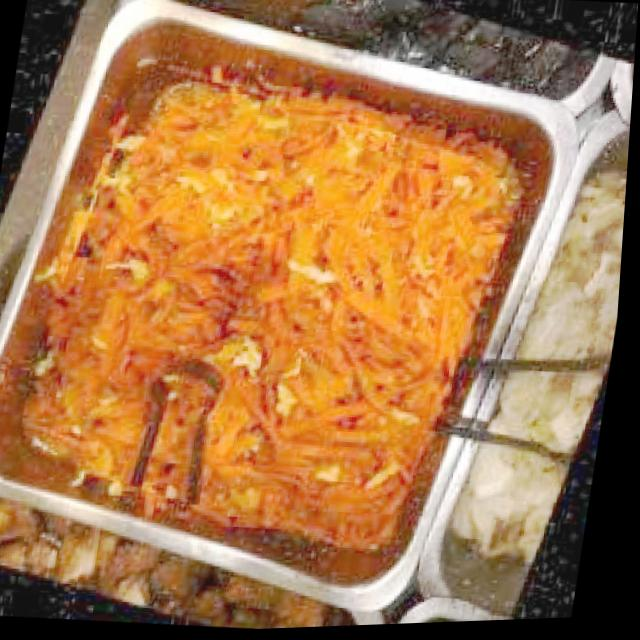carrot_eggs: (0, 53, 535, 567)
